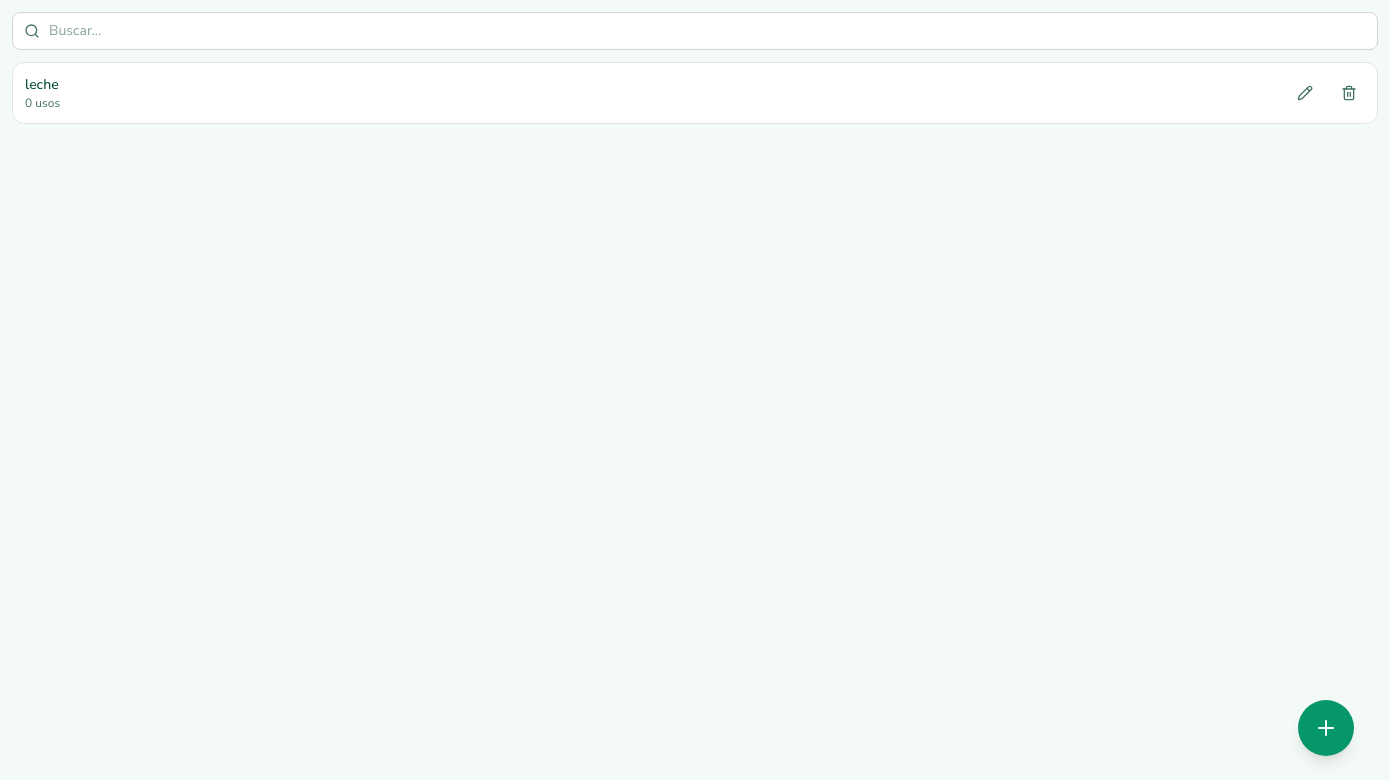
it: PantryEditor › filtra por búsqueda y muestra empty state de sin resultados
This screenshot has width=1390, height=780.
Type "pan" into the search field named "Buscar en la despensa".
click(695, 31); type("pan")  # box x1=12 y1=12 x2=1378 y2=50
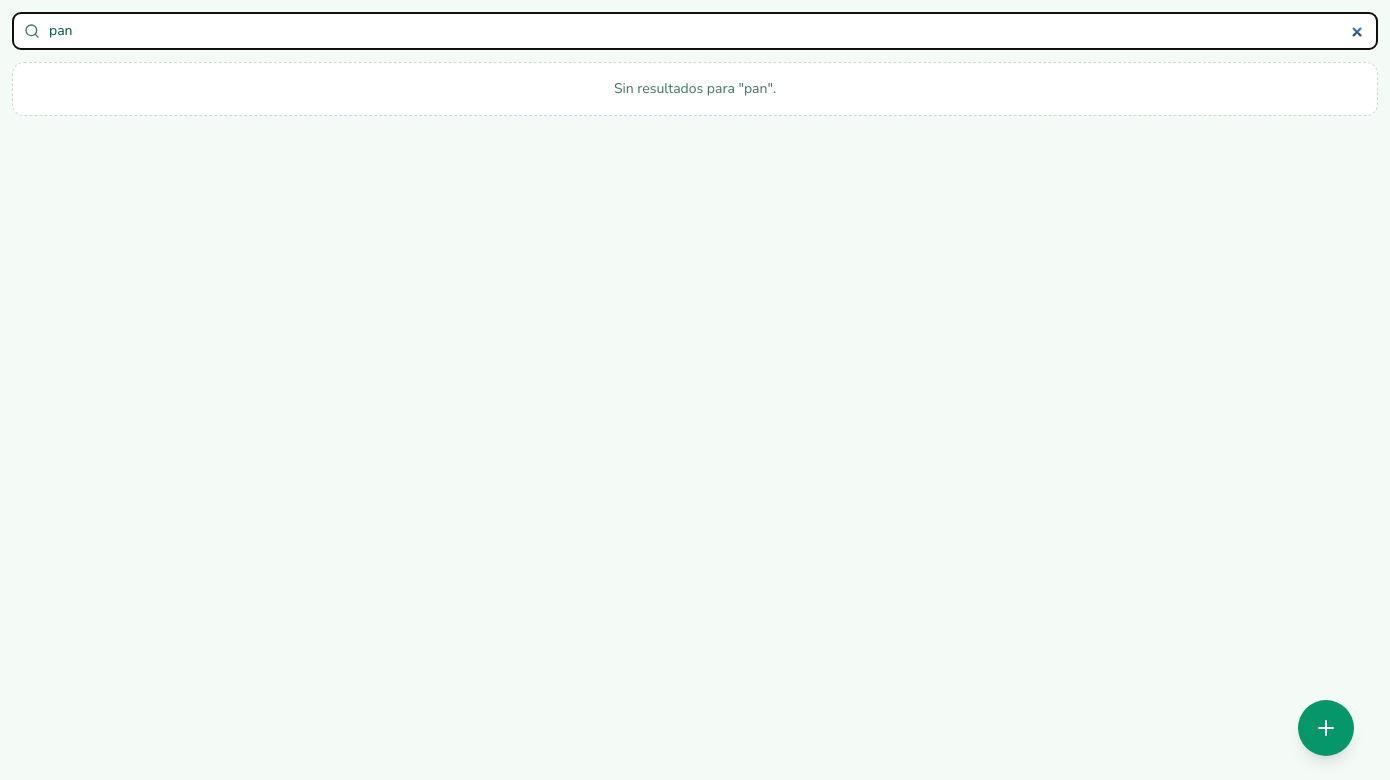
Check: the text "leche" is gone
Check: the text "Sin resultados para \"pan\"." is shown, box x1=12 y1=62 x2=1378 y2=116
